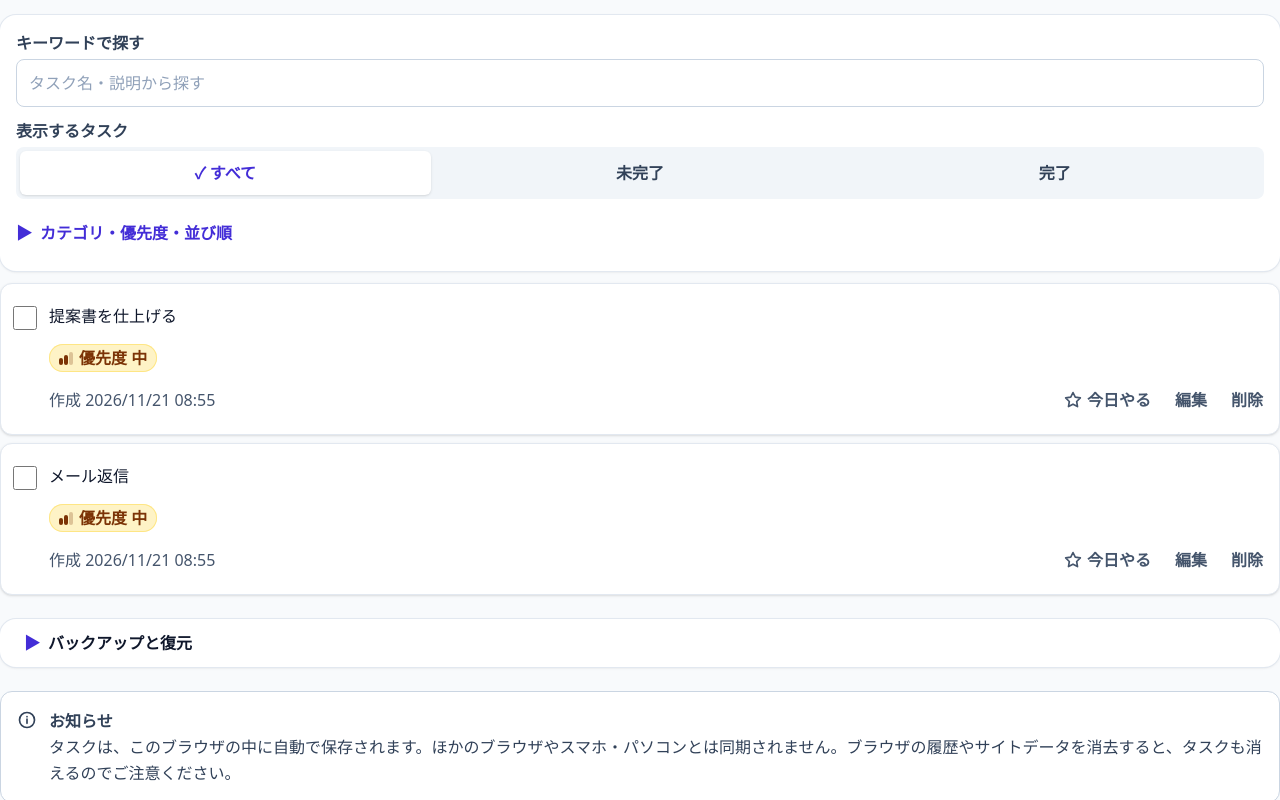
Test: A. 今日のフォーカス › 「今日やる」を押すと、上の「今日のフォーカス」に表示される
This screenshot has width=1280, height=800.
(page scrolled)
Click the button with aria-label "「提案書を仕上げる」を今日やる". click: [1107, 400]
box: 1051,378 -> 1163,422
(page scrolled)
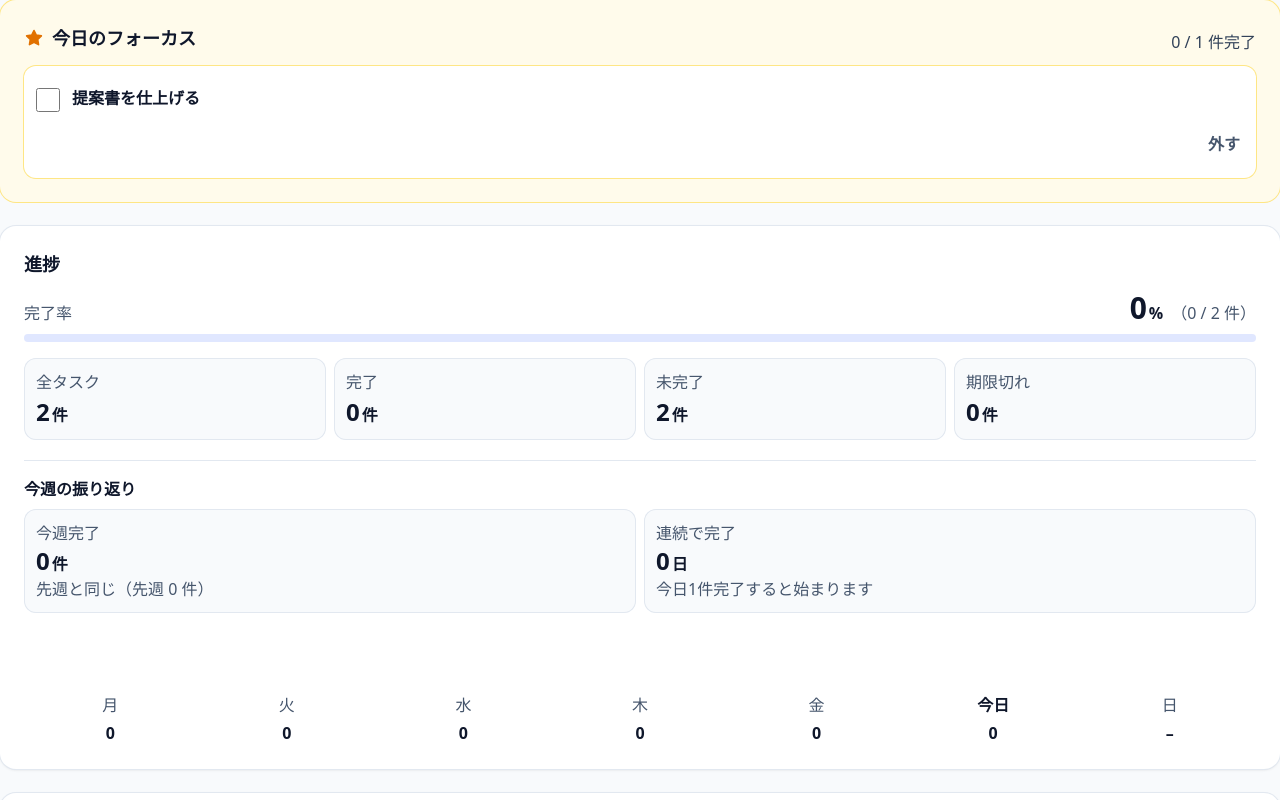
expect the text "提案書を仕上げる" is shown: met, box 72,86 -> 200,110
